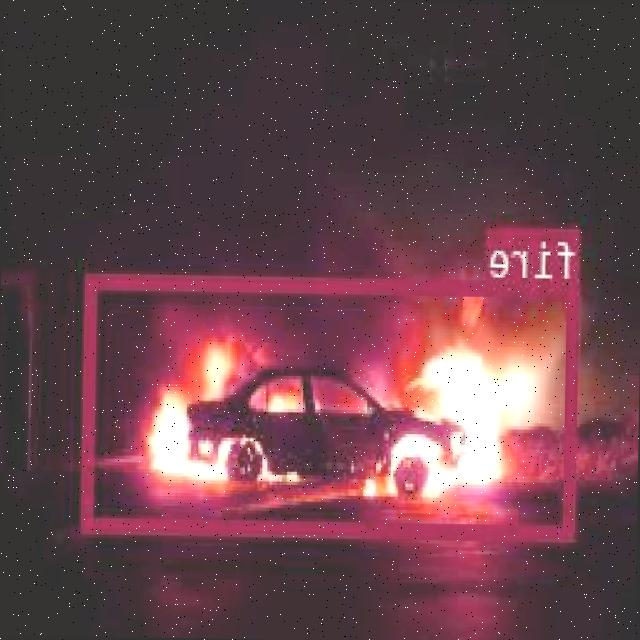fire: (85, 272, 580, 538)
